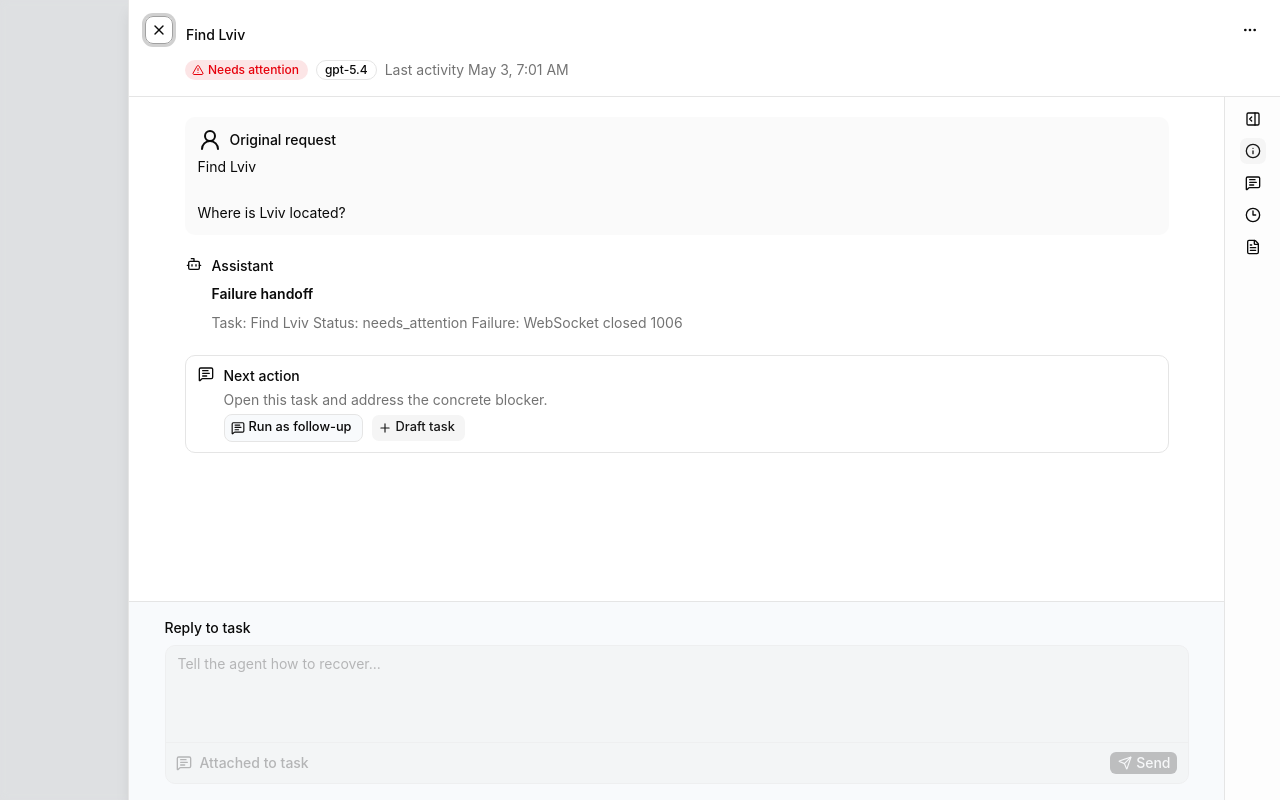
TaskModal › keeps failure technical logs in the runs tab instead of the main thread
Check: the text "run_shell (npm test)" is not shown
Click the button named "Open Context". click: {"x": 1252, "y": 183}
box: [1238,169,1266,197]
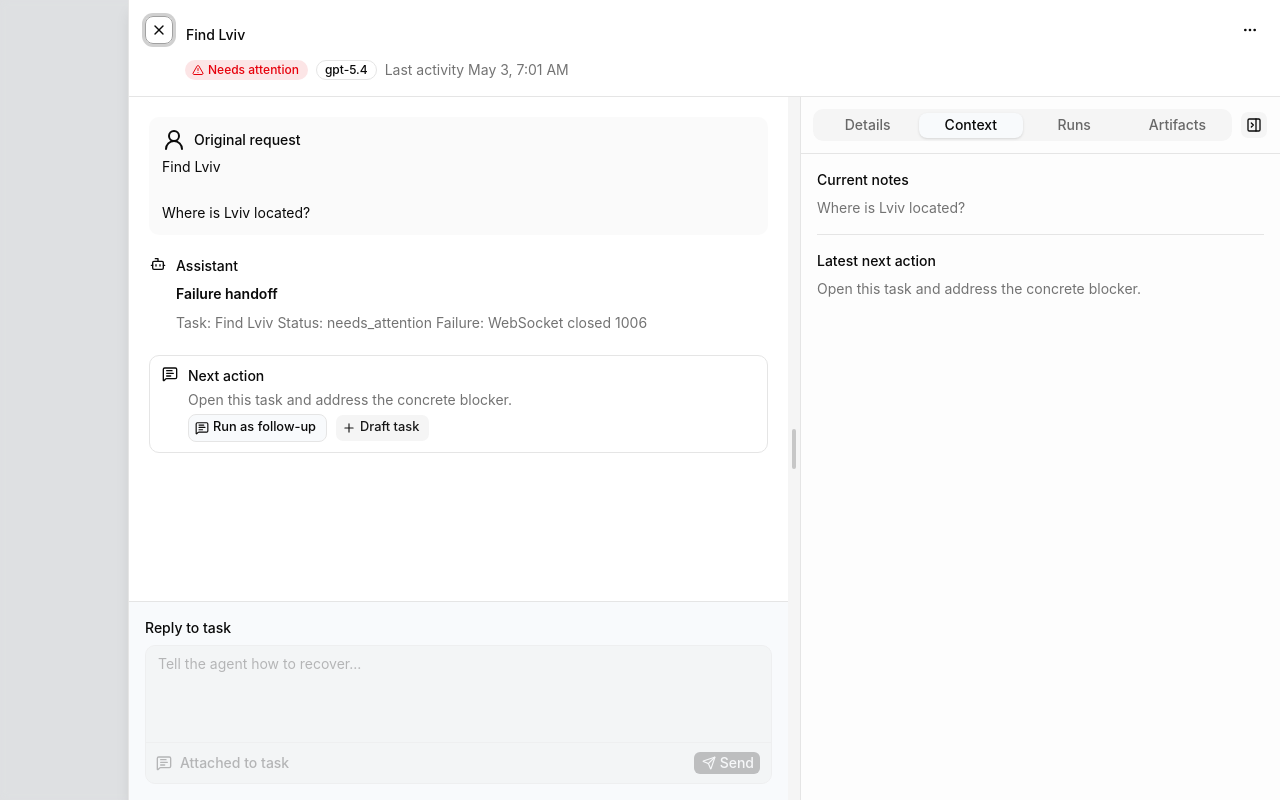
Check: the text "Open this task and address the concrete blocker." is shown, box [188,390,512,408]
Check: the text "Latest next action" is shown, box [817,252,936,269]
Click the button named "Collapse task details". click: {"x": 1254, "y": 125}
box: [1240,111,1268,139]
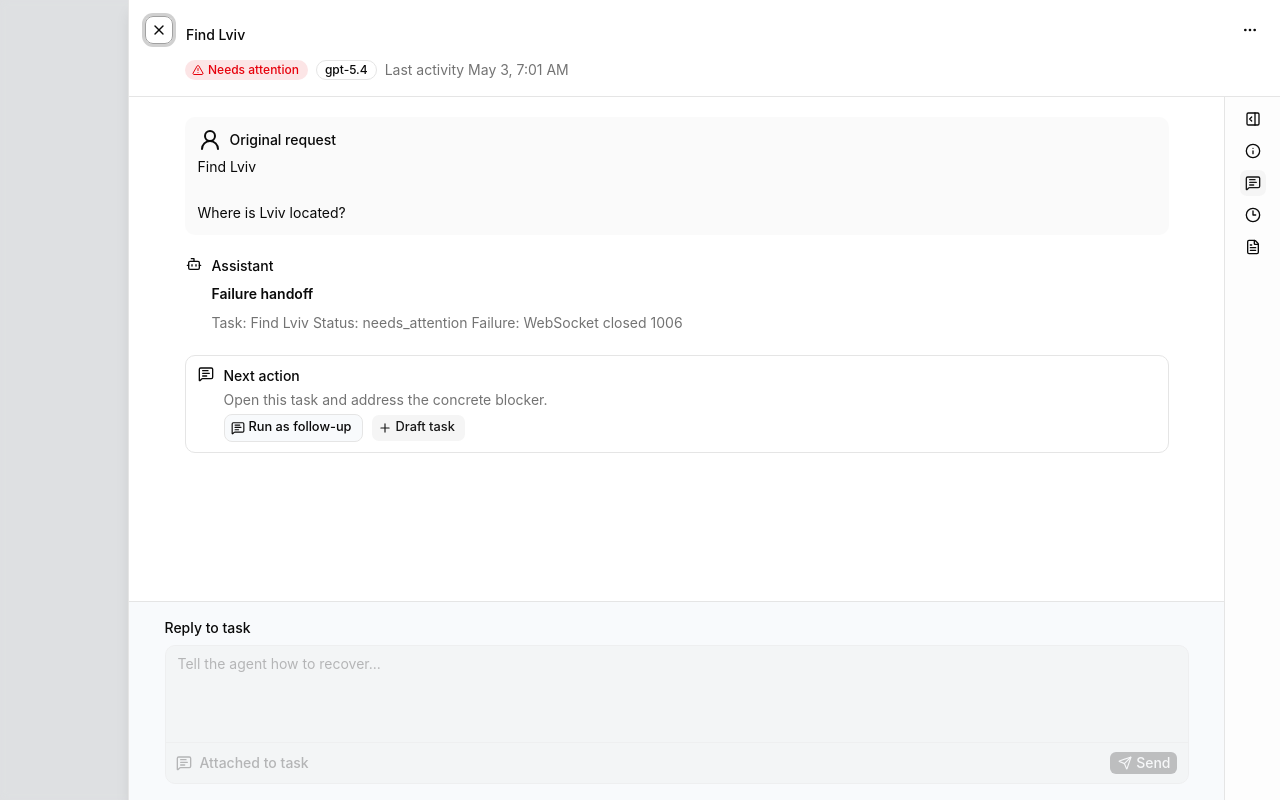
Click the button named "Open Runs". click: {"x": 1252, "y": 215}
box: [1238,201,1266,229]
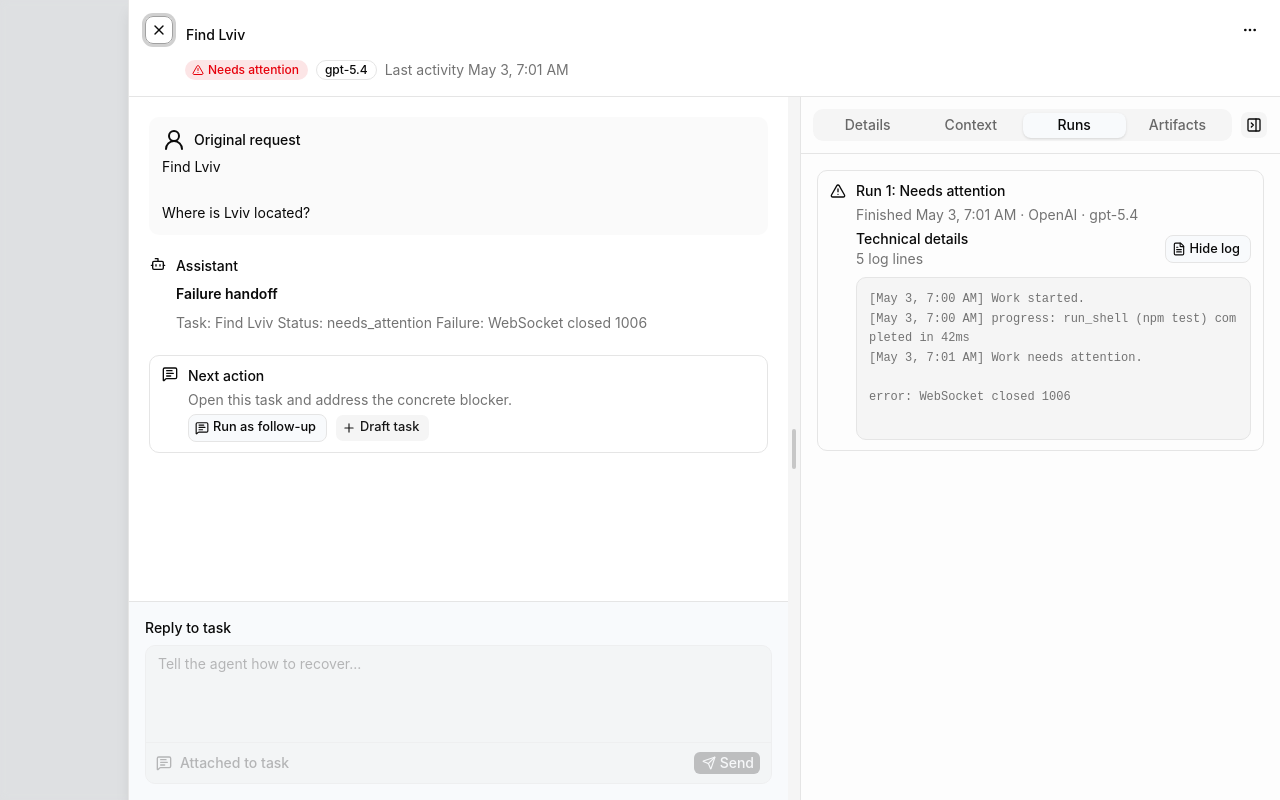
Check: the text "Technical details" is shown, box [856,229,968,249]
Check: the text "progress: run_shell (npm test) completed in 42ms" is shown, box [869,292,1236,404]
Check: the text "error: WebSocket closed 1006" is shown, box [869,292,1236,404]
